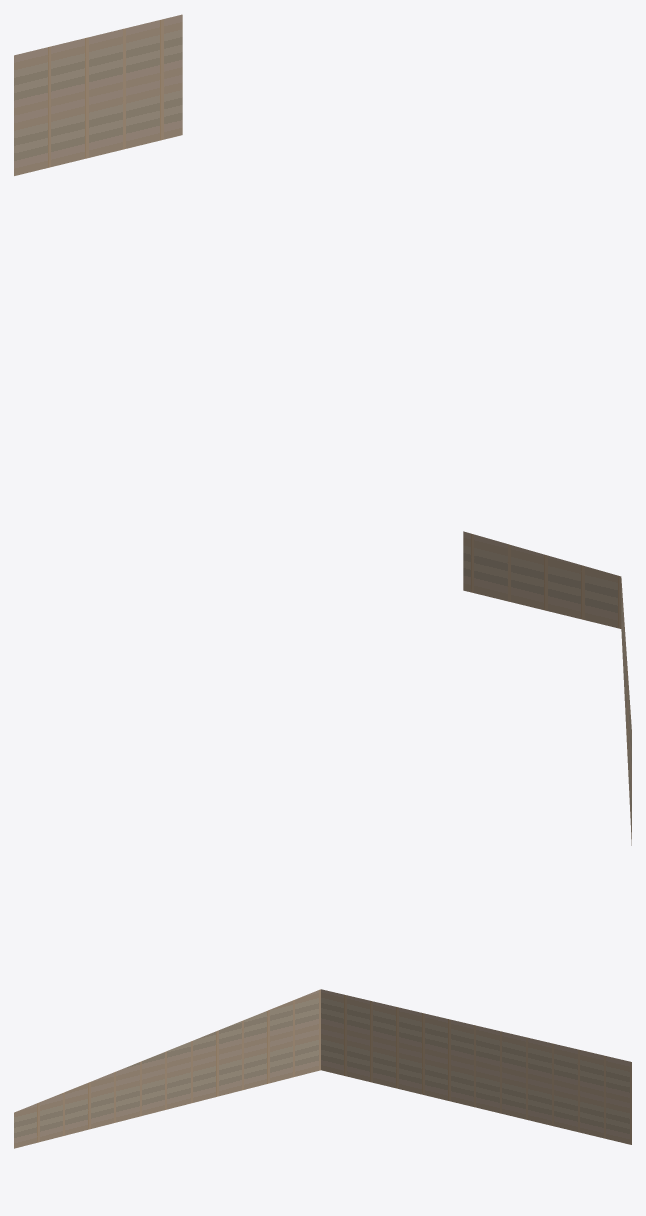
The model's file is kd_stage_13612f_0_31_bounded.glb.
3 views of the same model, one above another, from view 1: azimuth 30°, elevation 25°; view 2: azimuth 150°, elevation 25°; view 3: azimuth 270°, elevation 25° (orthographic). The views are drawn at different scales.
Parts seen in each view (by area): view 1: kd_stage_13612f_0_31_bounded; view 2: kd_stage_13612f_0_31_bounded; view 3: kd_stage_13612f_0_31_bounded.
Part boxes in pixels (left/top/right/bottom): kd_stage_13612f_0_31_bounded: left=14, top=14, right=182, bottom=175; kd_stage_13612f_0_31_bounded: left=463, top=531, right=631, bottom=845; kd_stage_13612f_0_31_bounded: left=14, top=989, right=631, bottom=1148.
Size of the model in its own units: 8.33 by 2.46 by 16.55.
1 material, 1 textured.
